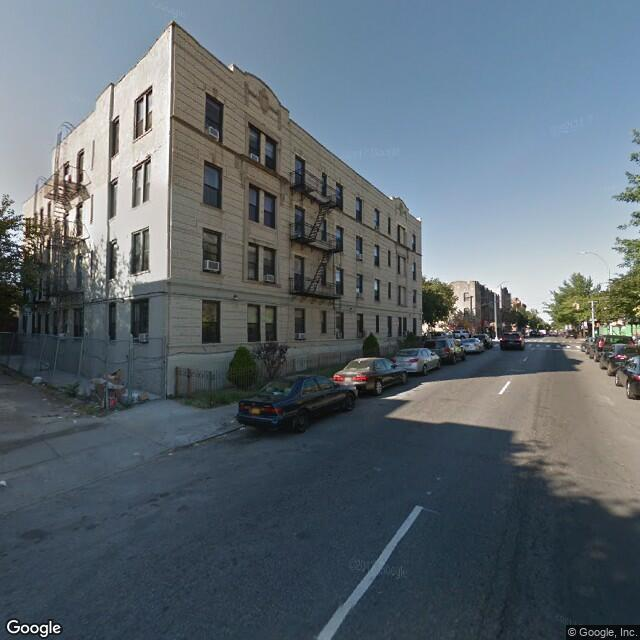litter: (64, 368, 156, 400), (1, 474, 16, 495), (29, 373, 48, 387)
